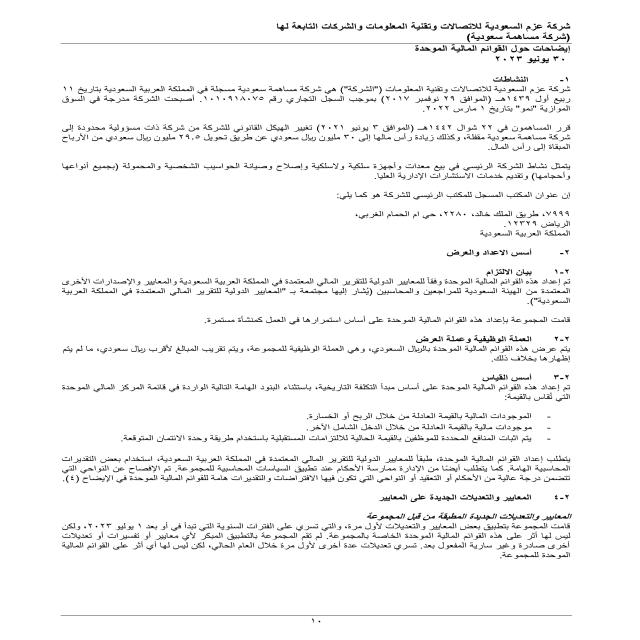notes: (408, 44, 573, 55)
text: (27, 76, 577, 590)
